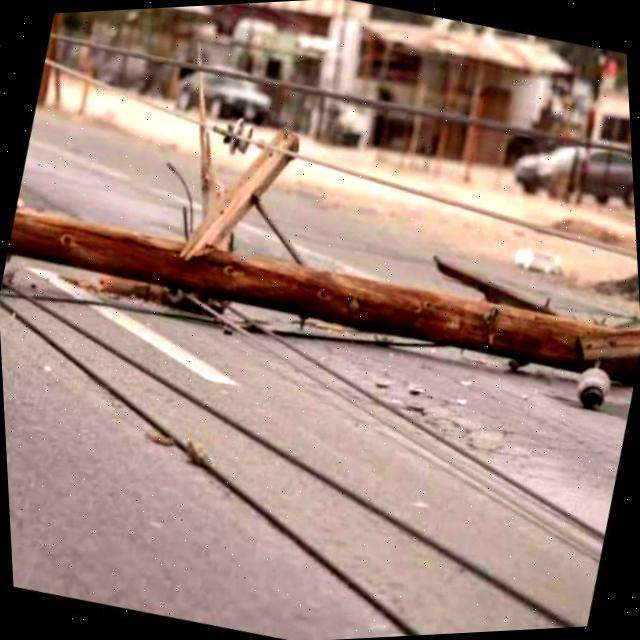Broken Pole: (10, 32, 640, 420)
